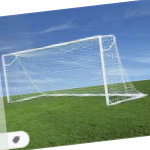goals: (2, 33, 148, 106)
